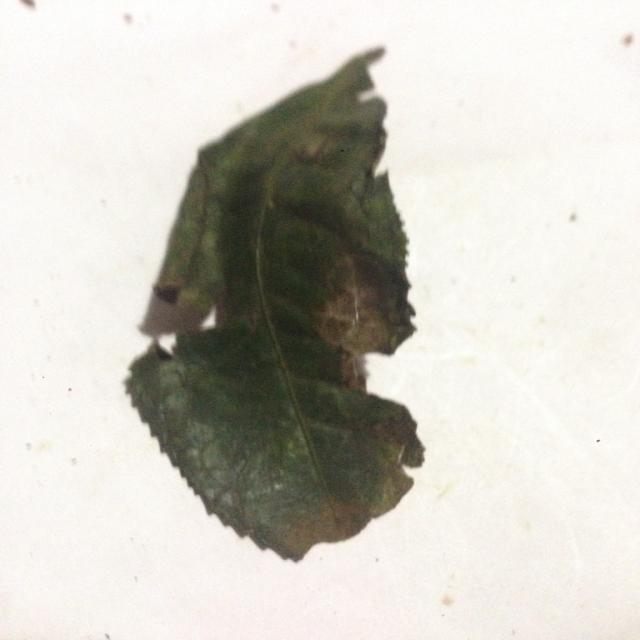Red Leaf Spot: (137, 38, 480, 574)
